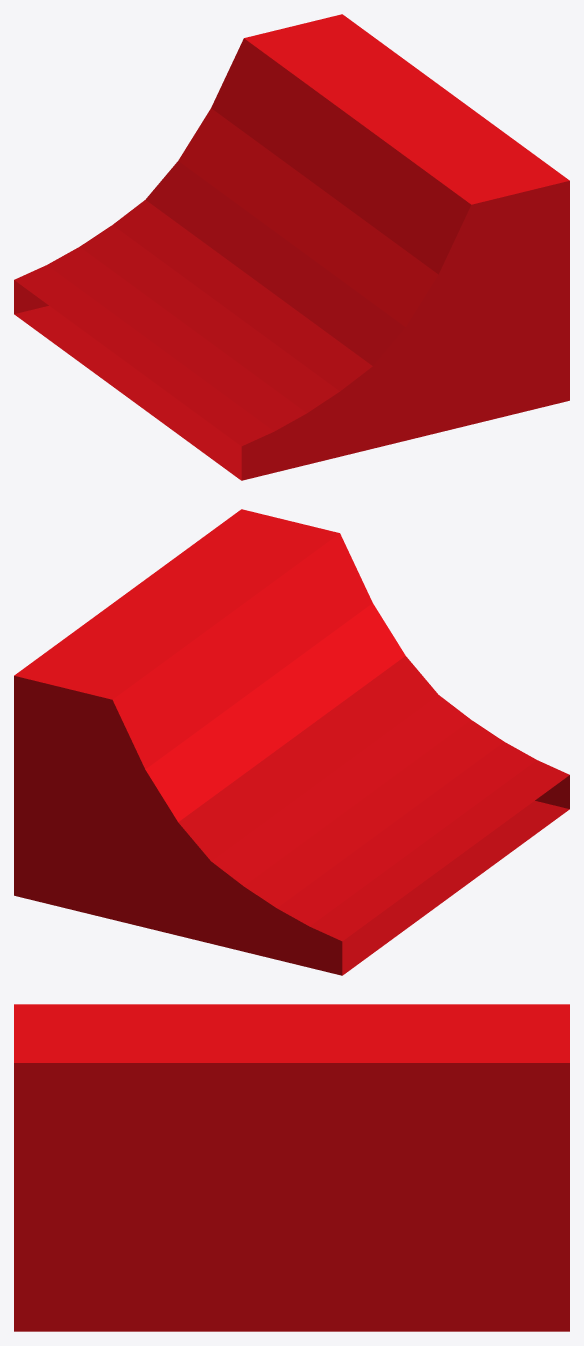
Rendered from half0.fbx.
3 renders of one model, top to bottom at view 1: azimuth 30°, elevation 25°; view 2: azimuth 150°, elevation 25°; view 3: azimuth 270°, elevation 25°, orthographic. The views are drawn at different scales.
Parts seen in each view (by area): view 1: Halfpipe; view 2: Halfpipe; view 3: Halfpipe.
Boxes of the visible parts, x1=… form: Halfpipe: x1=14, y1=14, x2=569, y2=480; Halfpipe: x1=14, y1=509, x2=569, y2=975; Halfpipe: x1=14, y1=1004, x2=569, y2=1331.
Size of the model in its own units: 10 by 6.4 by 12.
